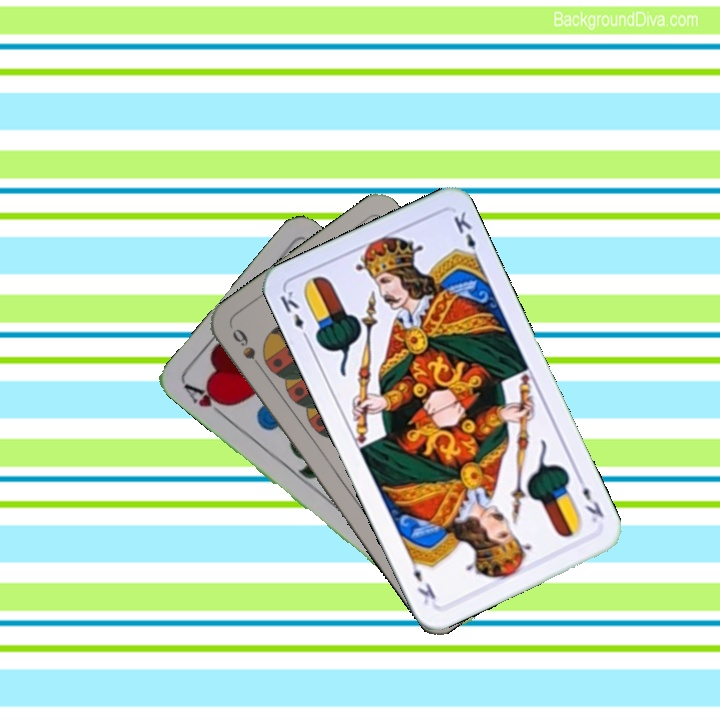EK: (276, 286, 312, 344), (573, 471, 607, 526)
HA: (180, 380, 234, 422)
S9: (228, 324, 268, 376)
